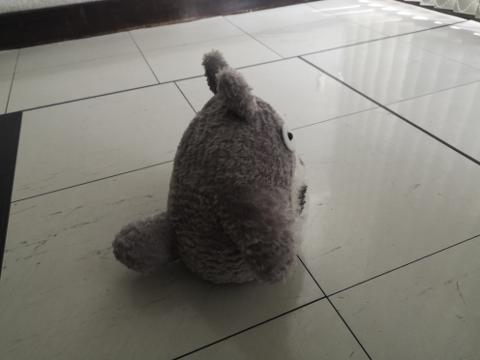totoro: (108, 46, 314, 290)
